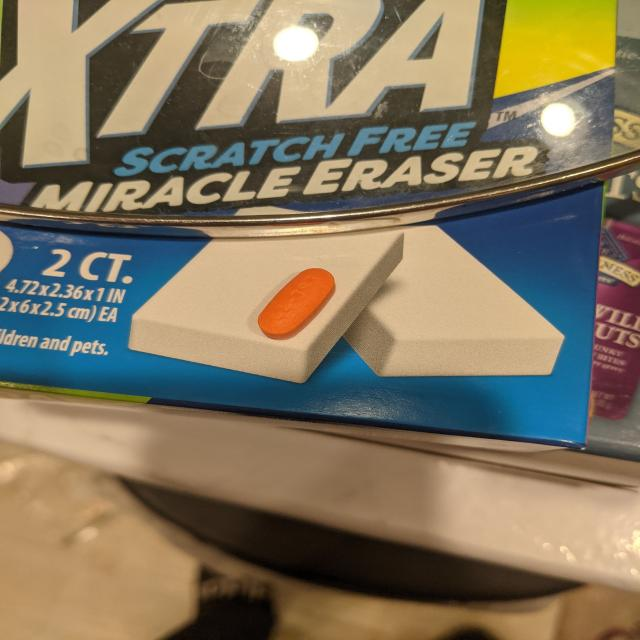non-organic waste: (257, 267, 337, 340)
